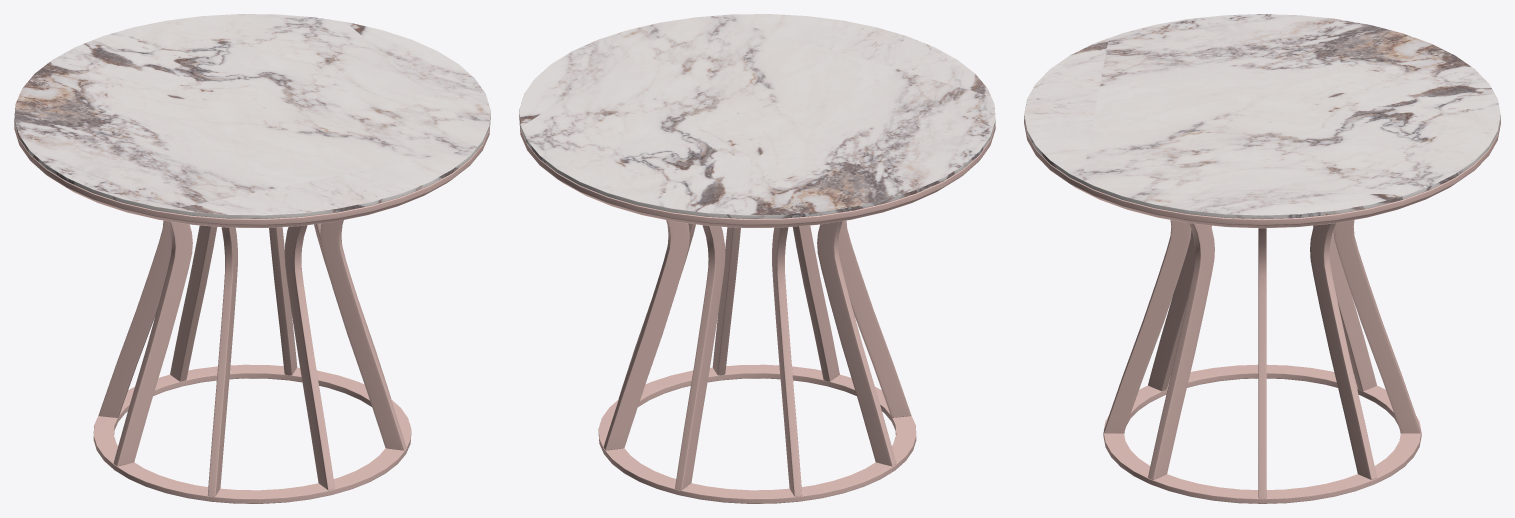
Rendered from SBH_SPIN_B.glb.
3 views of the same model, side by side, from view 1: azimuth 30°, elevation 25°; view 2: azimuth 150°, elevation 25°; view 3: azimuth 270°, elevation 25° (orthographic).
Parts seen in each view (by area): view 1: SPIN_B; view 2: SPIN_B; view 3: SPIN_B.
Boxes of the visible parts, left/top/right/bottom form: SPIN_B: left=14, top=14, right=490, bottom=503; SPIN_B: left=519, top=14, right=995, bottom=503; SPIN_B: left=1024, top=14, right=1500, bottom=503.
Size of the model in its own units: 0.6027 by 0.4499 by 0.6027.
2 materials, 1 textured.
